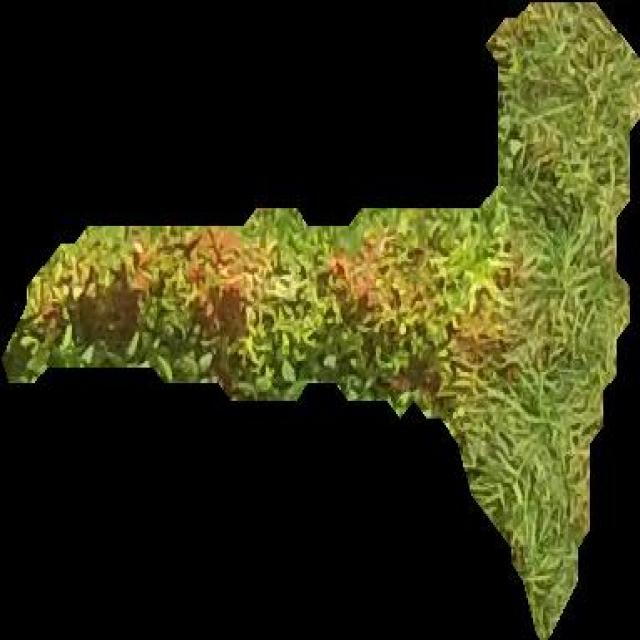Weed: (1, 1, 640, 640)
